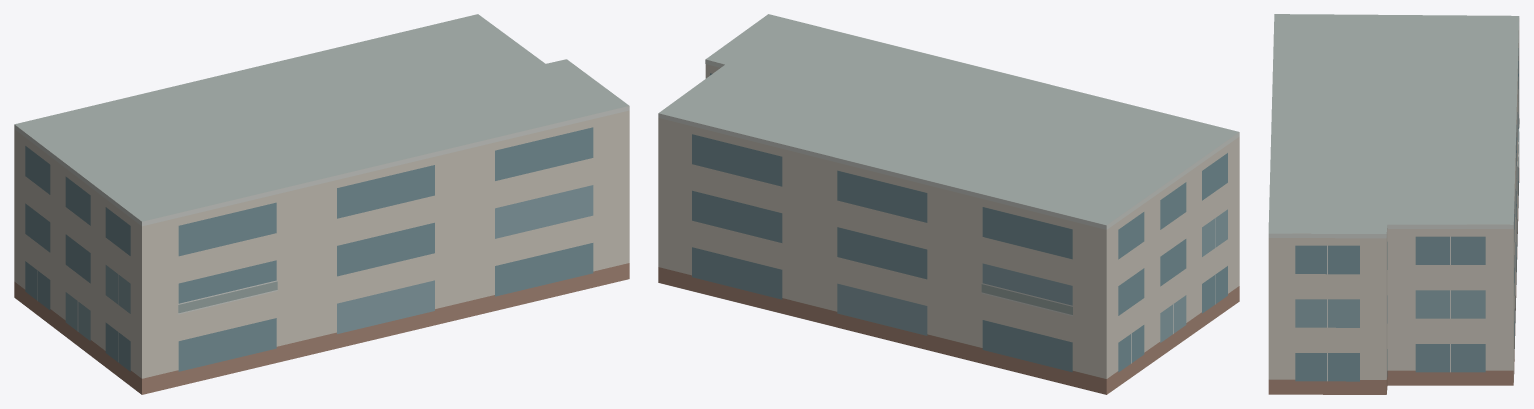
Rendered from survey-upis-32505469.glb.
3 views of the same model, side by side, from view 1: azimuth 30°, elevation 25°; view 2: azimuth 150°, elevation 25°; view 3: azimuth 270°, elevation 25° (orthographic). The views are drawn at different scales.
Visible parts, largest first — view 1: survey-upis-32505469.tmp; view 2: survey-upis-32505469.tmp; view 3: survey-upis-32505469.tmp.
Part boxes in pixels (left/top/right/bottom): survey-upis-32505469.tmp: left=14, top=14, right=629, bottom=394; survey-upis-32505469.tmp: left=658, top=14, right=1239, bottom=394; survey-upis-32505469.tmp: left=1268, top=14, right=1519, bottom=394.
Size of the model in its own units: 26.84 by 9.15 by 12.94.
